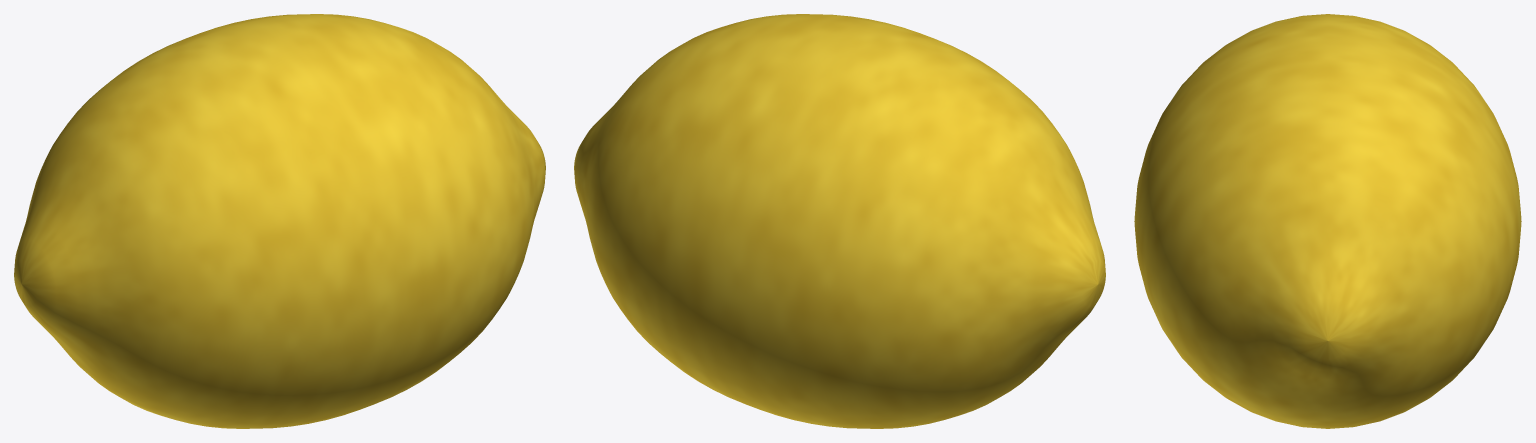
The picture shows the model from 3 angles, left to right: view 1: azimuth 30°, elevation 25°; view 2: azimuth 150°, elevation 25°; view 3: azimuth 270°, elevation 25°; orthographic projection. The views are drawn at different scales.
Parts seen in each view (by area): view 1: Lemon; view 2: Lemon; view 3: Lemon.
Boxes of the visible parts, <box> form: Lemon: <box>14,14,545,428</box>; Lemon: <box>574,14,1105,428</box>; Lemon: <box>1134,14,1521,428</box>.
Size of the model in its own units: 0.076 by 0.052 by 0.052.
1 material, 1 textured.
